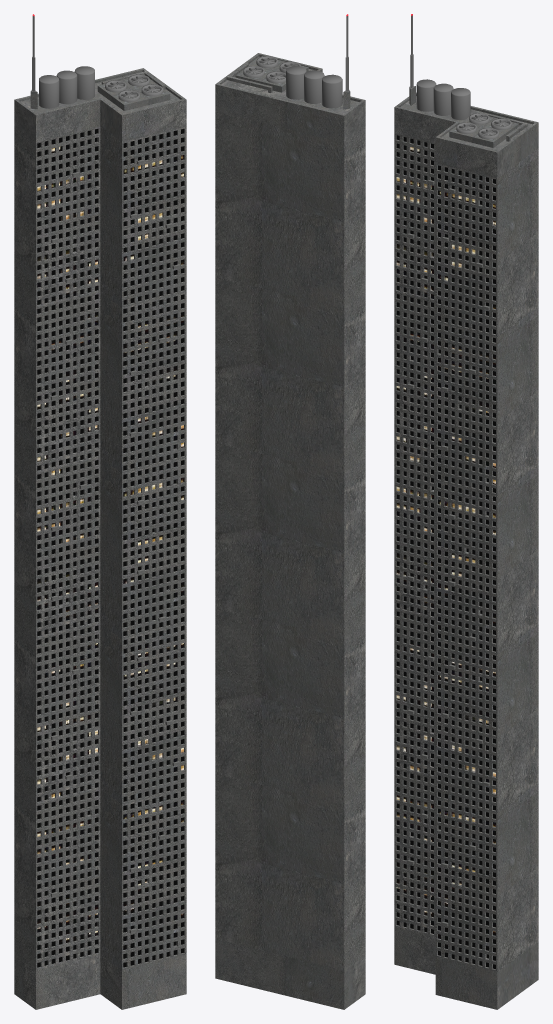
File: quality-skyscraper-dual.glb
3 views of the same model, side by side, from view 1: azimuth 30°, elevation 25°; view 2: azimuth 150°, elevation 25°; view 3: azimuth 330°, elevation 25° (orthographic). The views are drawn at different scales.
Visible parts, largest first — view 1: quality-skyscraper-dual; view 2: quality-skyscraper-dual; view 3: quality-skyscraper-dual.
Part boxes in pixels (box(x1,y1,x2,y2)): quality-skyscraper-dual: box(14, 14, 186, 1009); quality-skyscraper-dual: box(215, 14, 365, 1009); quality-skyscraper-dual: box(394, 14, 538, 1009).
Bounding box in the file's own units: 44.72 × 326 × 26.57.
4 materials, 2 textured.
